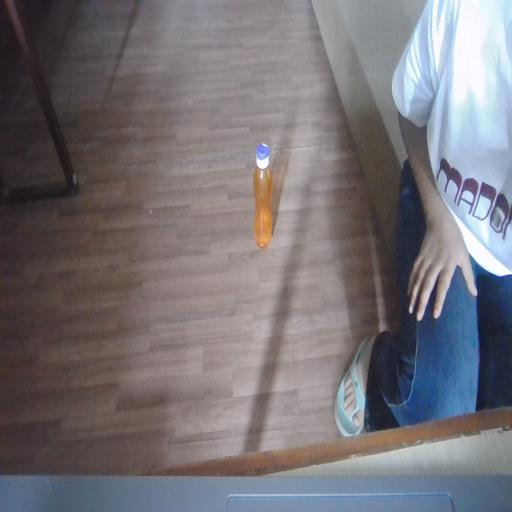Bottle: (248, 134, 289, 279)
